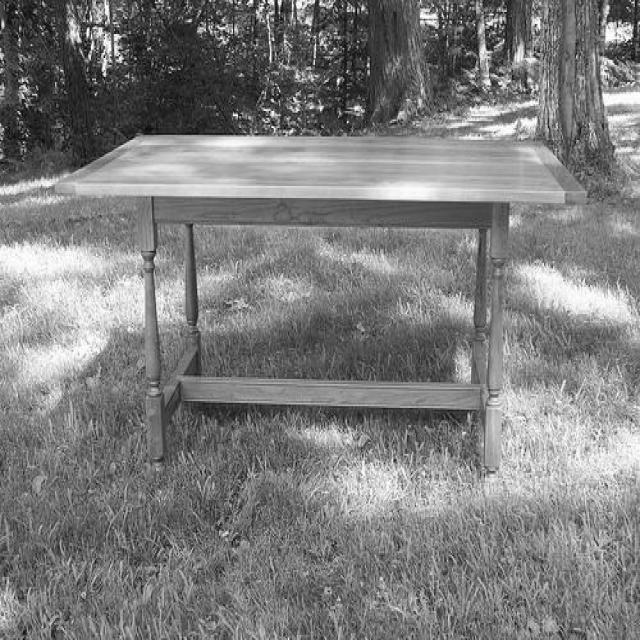table: (56, 137, 591, 484)
